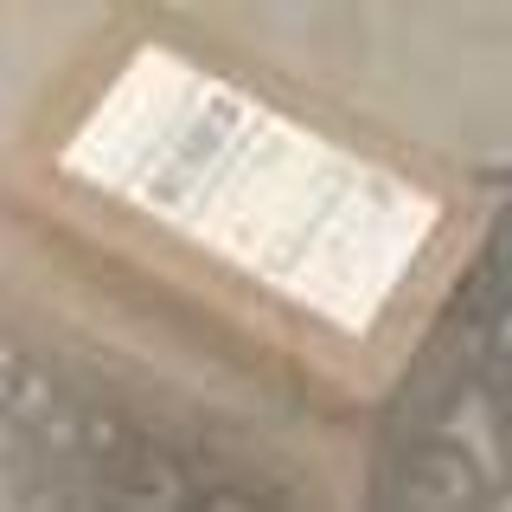Other: (9, 14, 489, 405)
